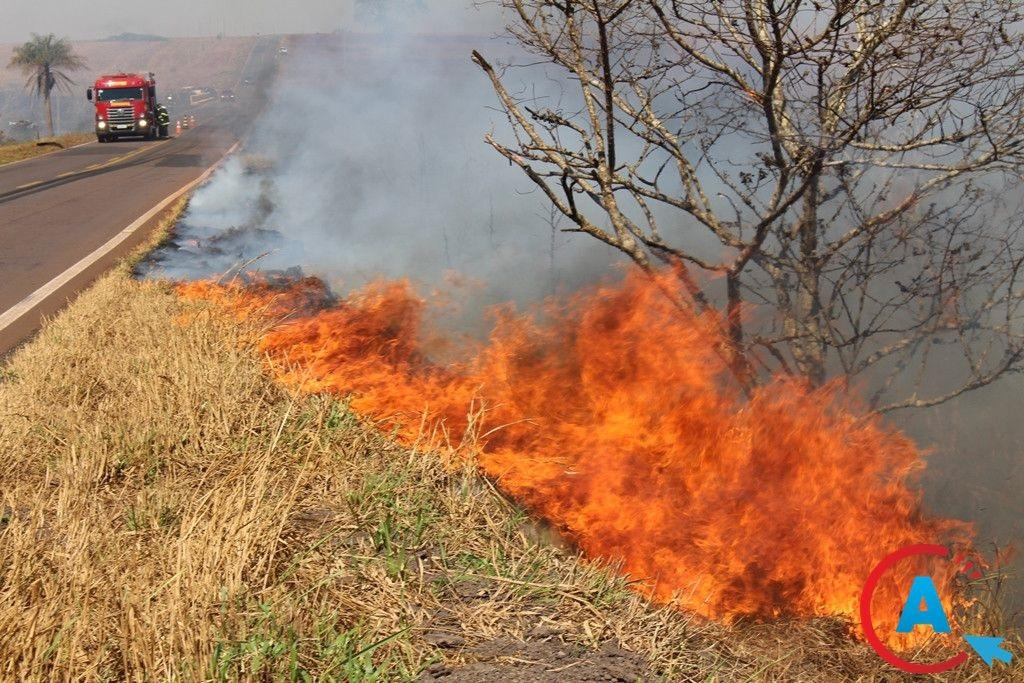Fire: (184, 274, 968, 649)
